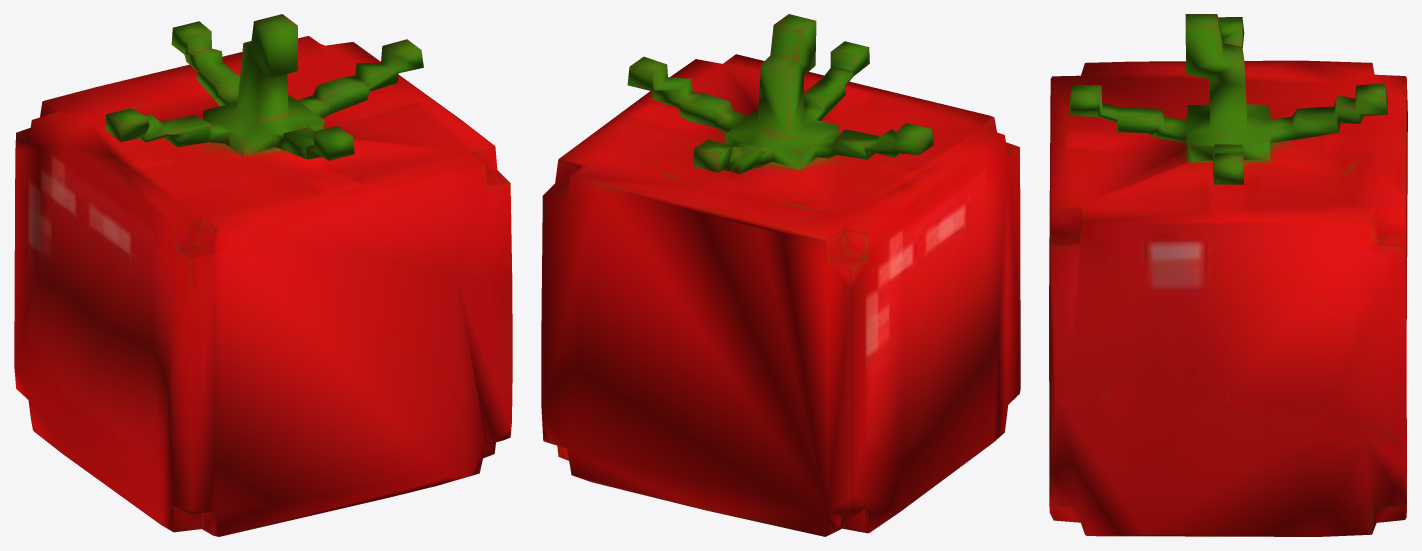
File: food-tomato.glb
The picture shows the model from 3 angles, left to right: view 1: azimuth 30°, elevation 25°; view 2: azimuth 150°, elevation 25°; view 3: azimuth 270°, elevation 25°; orthographic projection. The views are drawn at different scales.
Visible parts, largest first — view 1: food-tomato; view 2: food-tomato; view 3: food-tomato.
Boxes of the visible parts, x1,y1,x2,y2 form: food-tomato: (14, 14, 512, 536); food-tomato: (541, 14, 1020, 536); food-tomato: (1049, 14, 1407, 536).
Size of the model in its own units: 0.4109 by 0.52 by 0.3873.
Materials: 1 (1 with a texture image).
